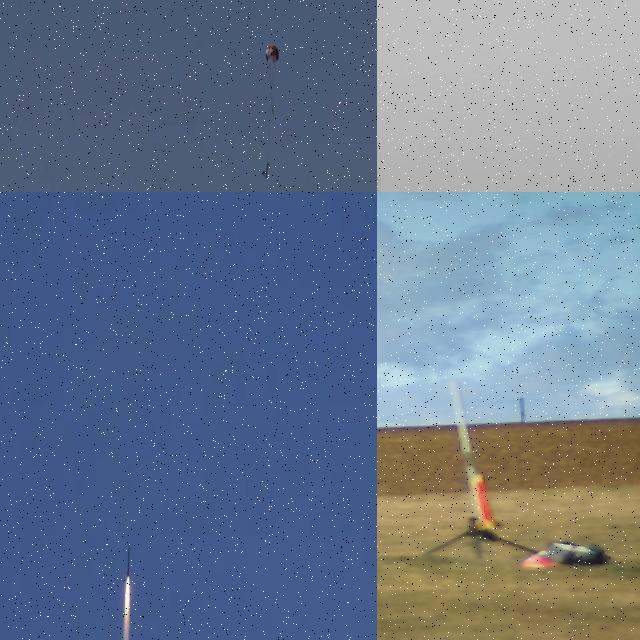Rocket: (472, 473, 505, 531), (127, 544, 130, 577)
